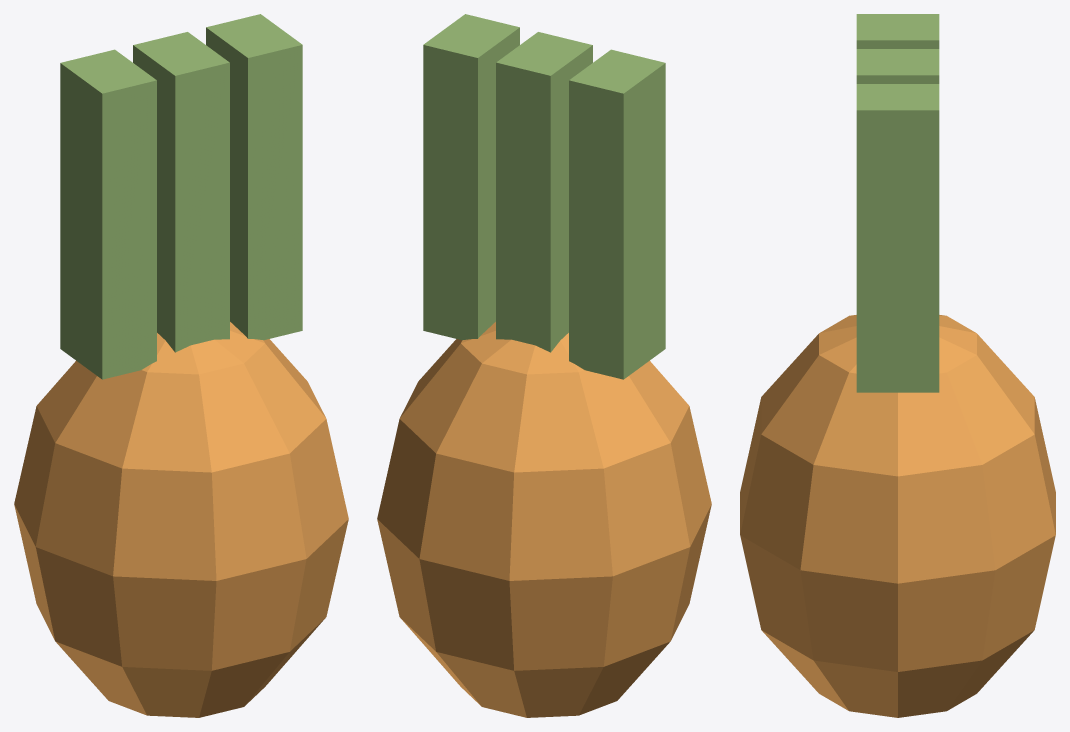
File: supermarket-operations-pineapple-633f0f80.glb
The picture shows the model from 3 angles, left to right: view 1: azimuth 30°, elevation 25°; view 2: azimuth 150°, elevation 25°; view 3: azimuth 270°, elevation 25°; orthographic projection.
Parts seen in each view (by area): view 1: pineapple; view 2: pineapple; view 3: pineapple.
Boxes of the visible parts, bbox=[...] form: pineapple: bbox=[14, 14, 348, 717]; pineapple: bbox=[377, 14, 711, 717]; pineapple: bbox=[740, 14, 1055, 717].
Size of the model in its own units: 0.16 by 0.344 by 0.1522.
